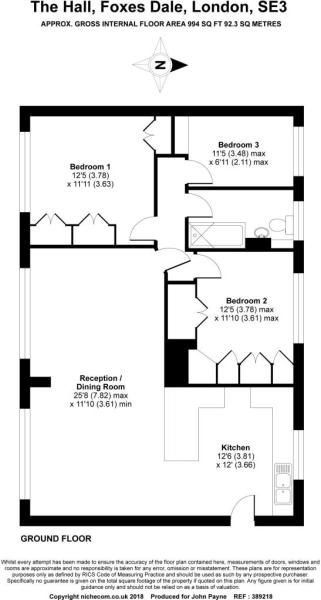GrossArea: (39, 18, 282, 31)
